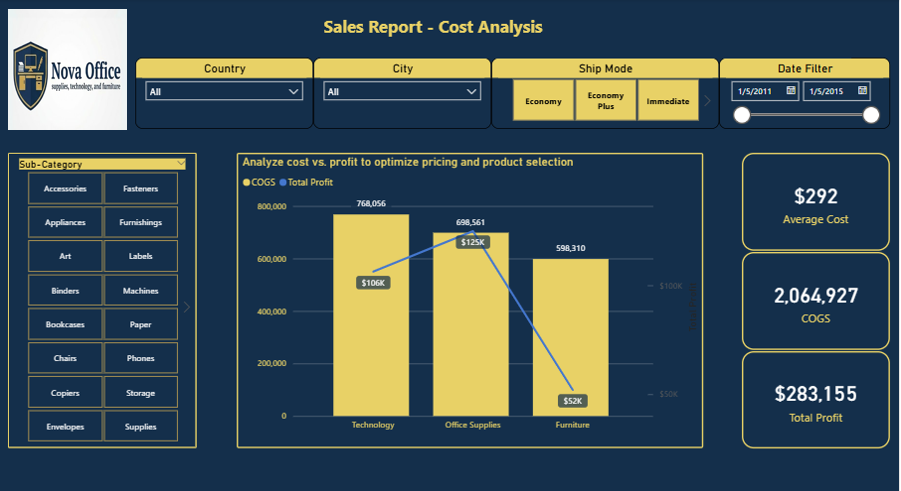

What the dashboard file says about the page in this screenshot:
{"tool":"powerbi","page":{"name":"Cost Analysis","canvas":[1280,720],"ordinal":6},"visuals":[{"type":"slicer","title":"Date Filter ","fields":{"Values":["Dim_Date.Date"]},"box":[1024.7,83.6,243.8,102],"z":0},{"type":"slicer","title":"Ship Mode ","fields":{"Values":["Dim_Ship Mode.Ship Mode"]},"box":[700.2,83.6,324.6,102],"z":1000},{"type":"slicer","title":"City","fields":{"Values":["Dim_City.City"]},"box":[446.5,83.6,253.7,102],"z":2000},{"type":"slicer","title":"Country","fields":{"Values":["Dim_City.City"]},"box":[192.8,83.6,253.7,102],"z":3000},{"type":"textbox","box":[456.8,16.5,757.3,67.9],"z":4000},{"type":"card","fields":{"Values":["-Measures.COGS"]},"box":[1057.3,361.4,211.2,140.3],"z":5000},{"type":"card","fields":{"Values":["-Measures.Average Cost"]},"box":[1057.3,219.7,211.2,140.3],"z":6000},{"type":"card","fields":{"Values":["-Measures.Total Profit"]},"box":[1057.3,503.1,211.2,138.9],"z":7000},{"type":"lineClusteredColumnComboChart","title":"Analyze cost vs. profit to optimize pricing and product selection","fields":{"Category":["Dim_Category.Category"],"Y":["-Measures.COGS"],"Y2":["-Measures.Total Profit"]},"box":[337.3,219.7,664.7,422.4],"z":8000},{"type":"slicer","fields":{"Values":["Dim_Sub-Category.Sub-Category"]},"box":[11.3,219.7,269.3,422.4],"z":9000}]}

Visuals, with their boxes in screenshot pixels (x1, y1, x2, y2):
"Date Filter " slicer: left=716, top=56, right=886, bottom=127
"Ship Mode " slicer: left=490, top=56, right=716, bottom=127
"City" slicer: left=313, top=56, right=490, bottom=127
"Country" slicer: left=137, top=56, right=313, bottom=127
textbox: left=320, top=9, right=848, bottom=56
card - -Measures.COGS: left=739, top=249, right=886, bottom=347
card - -Measures.Average Cost: left=739, top=151, right=886, bottom=248
card - -Measures.Total Profit: left=739, top=348, right=886, bottom=445
"Analyze cost vs. profit to optimize pricing and product selection" lineClusteredColumnComboChart: left=237, top=151, right=700, bottom=445
slicer - Dim_Sub-Category.Sub-Category: left=10, top=151, right=198, bottom=445
